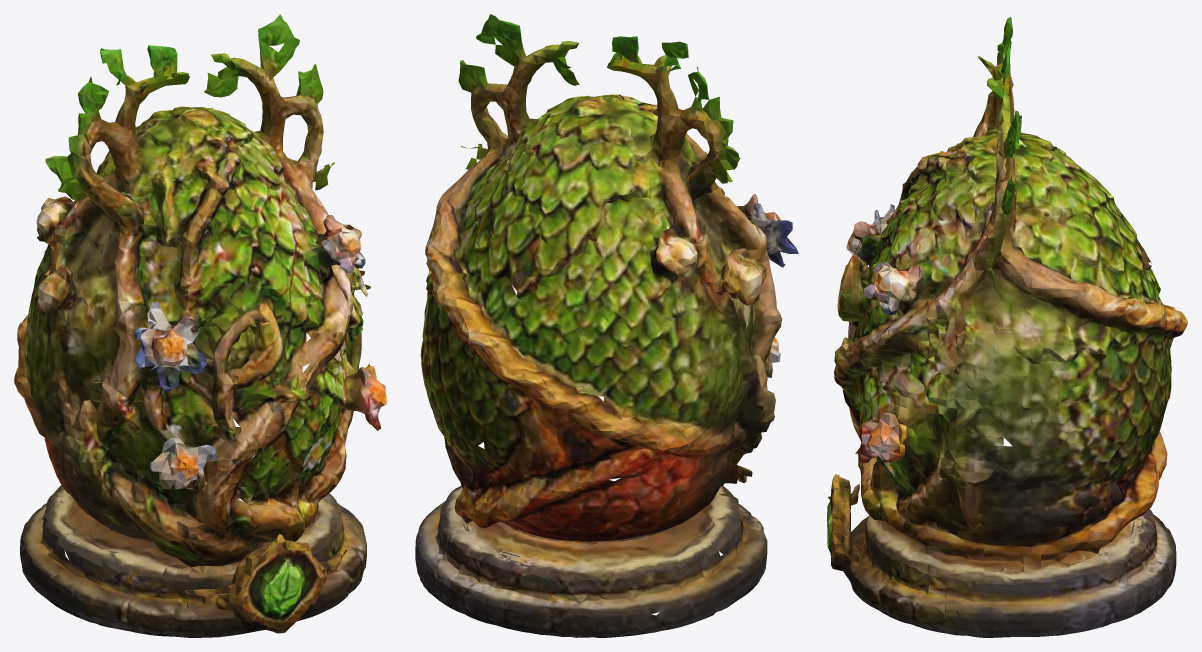
Rendered from ovo_verdantis.glb.
3 views of the same model, side by side, from view 1: azimuth 30°, elevation 25°; view 2: azimuth 150°, elevation 25°; view 3: azimuth 270°, elevation 25° (orthographic). The views are drawn at different scales.
Visible parts, largest first — view 1: plush; view 2: plush; view 3: plush.
Boxes of the visible parts, bbox=[...] form: plush: bbox=[14, 14, 386, 637]; plush: bbox=[415, 14, 798, 637]; plush: bbox=[827, 17, 1187, 637].
Bounding box in the file's own units: 0.5806 × 0.9765 × 0.6206.
1 material, 1 textured.
